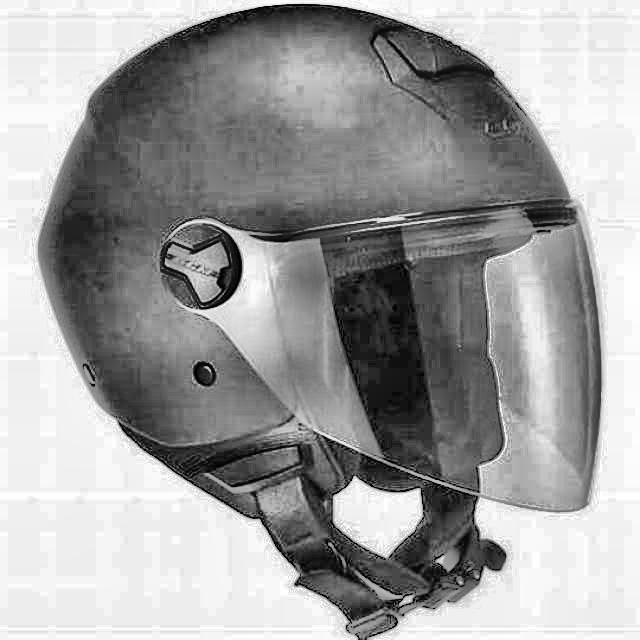Helmet: (25, 0, 611, 640)
